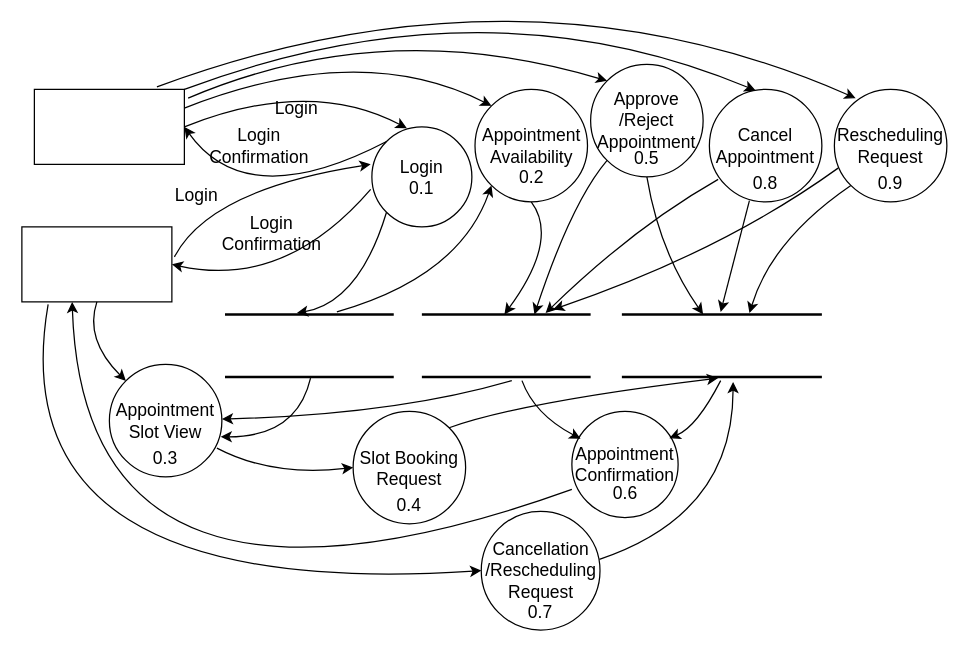
Image size: 969x653. Some labels were removed from this diagram. Here are the shapes that lost their labels. From the top down, the centre of each, then its label:
At (108,126): "Appointment Receiver".
At (96,264): "Appointment Scheduler".
At (308,345): "Login Database".
At (505,345): "Appointment Slots".
At (721,345): "Appointment Request".
